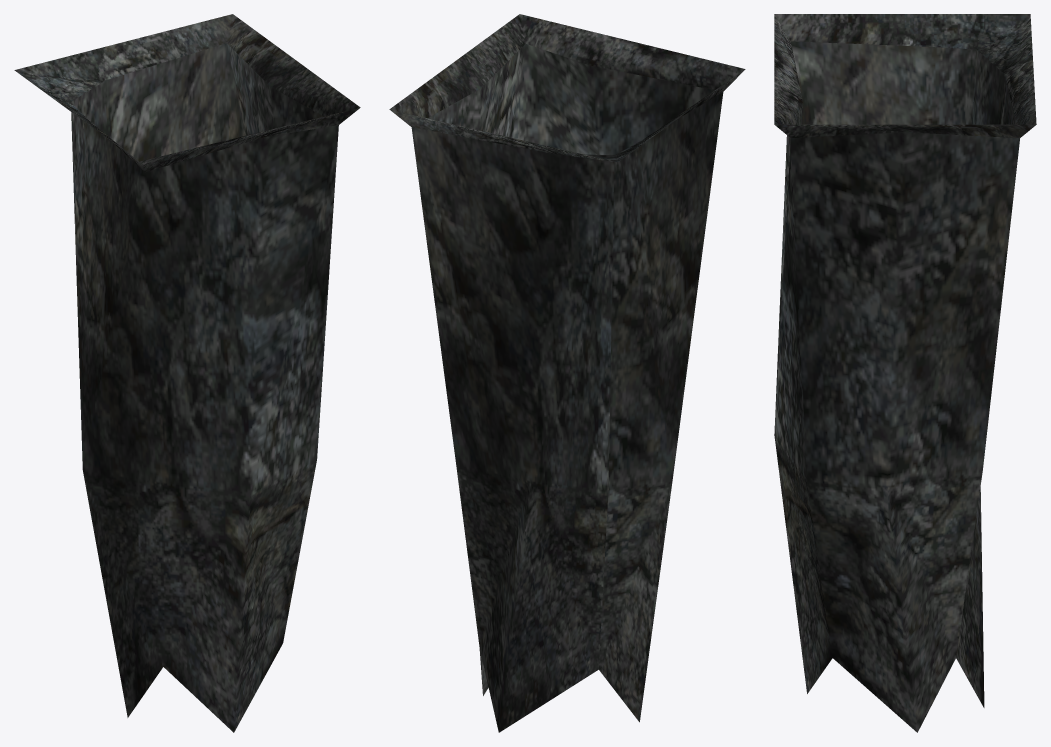
The model's file is water_pit.dae.
3 renders of one model, left to right at view 1: azimuth 30°, elevation 25°; view 2: azimuth 150°, elevation 25°; view 3: azimuth 270°, elevation 25°, orthographic. The views are drawn at different scales.
Parts seen in each view (by area): view 1: Cube_001; view 2: Cube_001; view 3: Cube_001.
Boxes of the visible parts, x1,y1,x2,y2 form: Cube_001: (14, 14, 360, 732); Cube_001: (389, 14, 745, 732); Cube_001: (774, 14, 1036, 732).
Size of the model in its own units: 5.5 by 5.5 by 14.47.
1 material, 1 textured.
